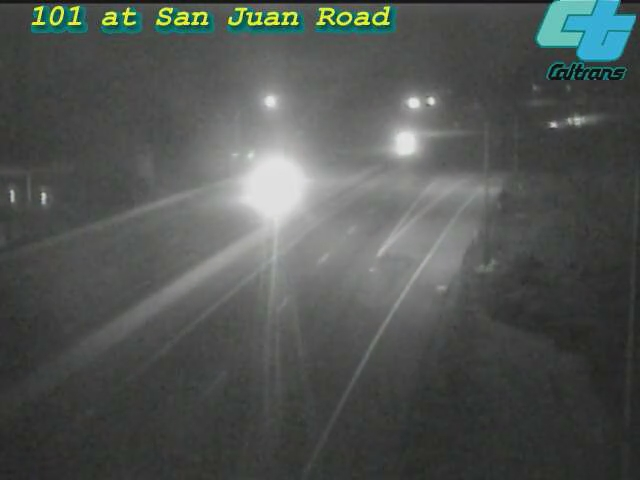vehicle: (223, 147, 303, 227), (376, 120, 426, 170), (561, 94, 611, 144), (532, 97, 582, 147)
